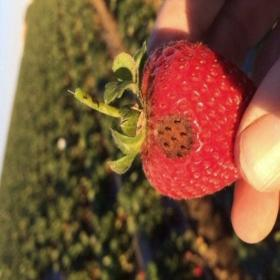Anthracnose Fruit Rot: (153, 114, 199, 159)
